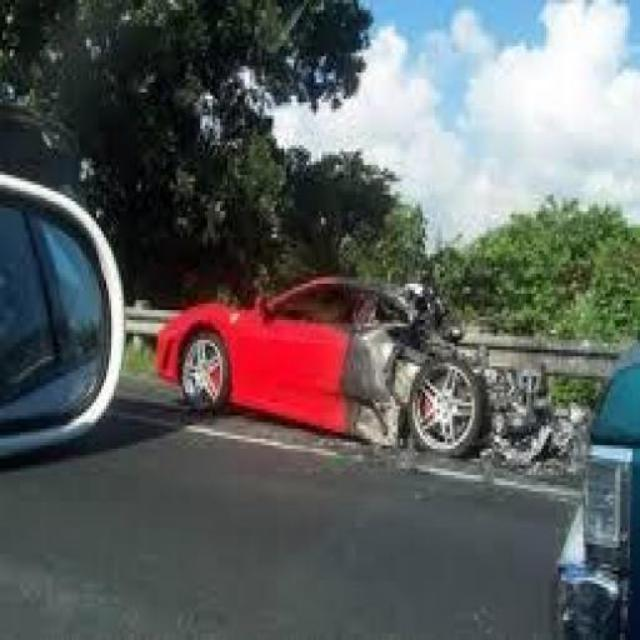crash: (340, 282, 587, 467)
